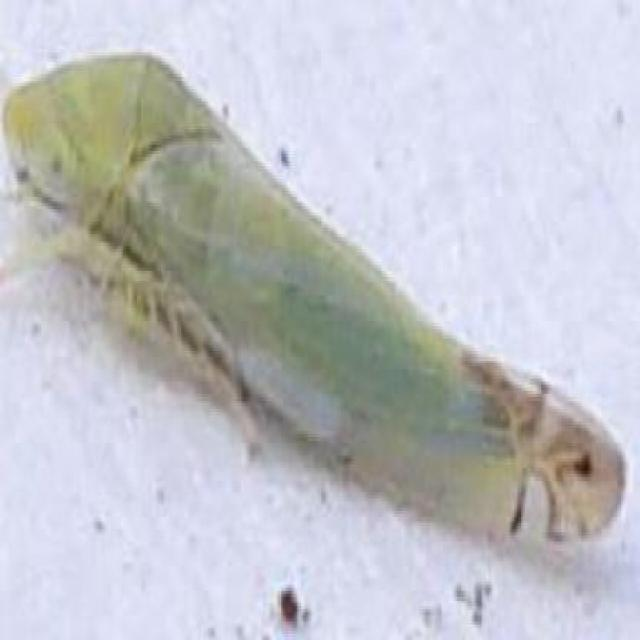green-leafhopper: (1, 46, 624, 545)
